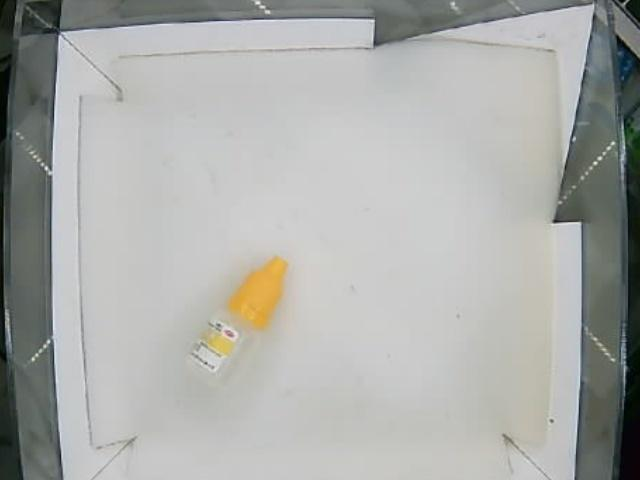Bottle: (187, 256, 288, 383)
